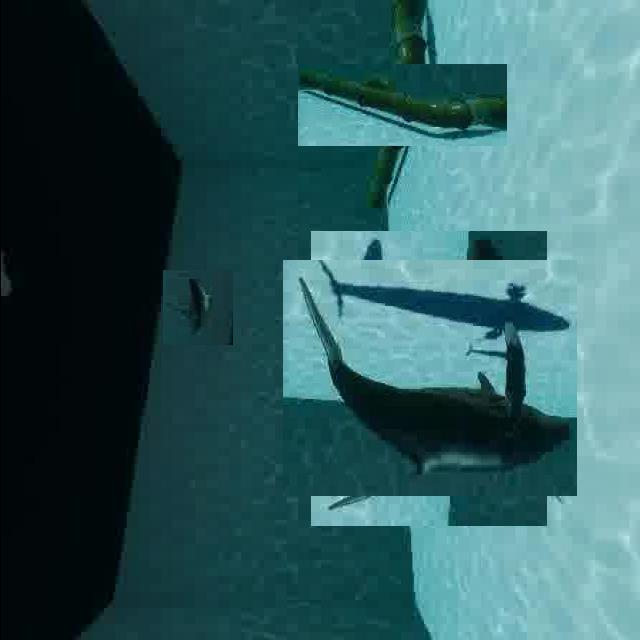Pipe: (328, 32, 474, 178)
Whale: (296, 246, 562, 512), (162, 270, 232, 345)
